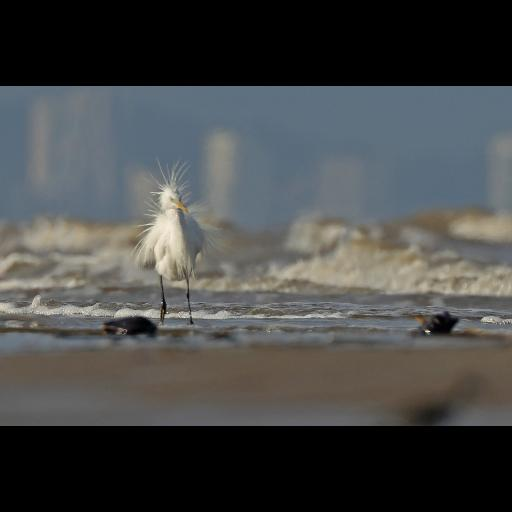chinese_egret: (130, 154, 220, 328)
